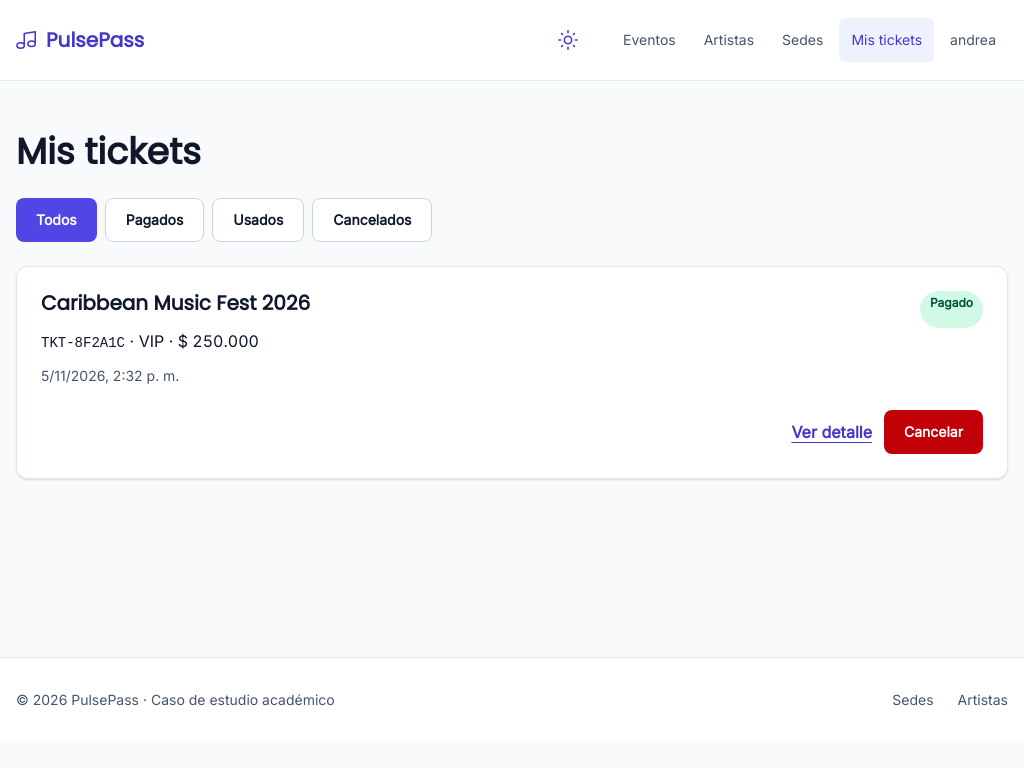
Test: TEST-FE-TKT-005 lista y filtro por estado
The width and height of the screenshot is (1024, 768).
expect the text "TKT-8F2A1C" is shown: met, box x1=41 y1=335 x2=125 y2=351
Click the button "Usados".
click(258, 220)  # box x1=212 y1=198 x2=304 y2=242
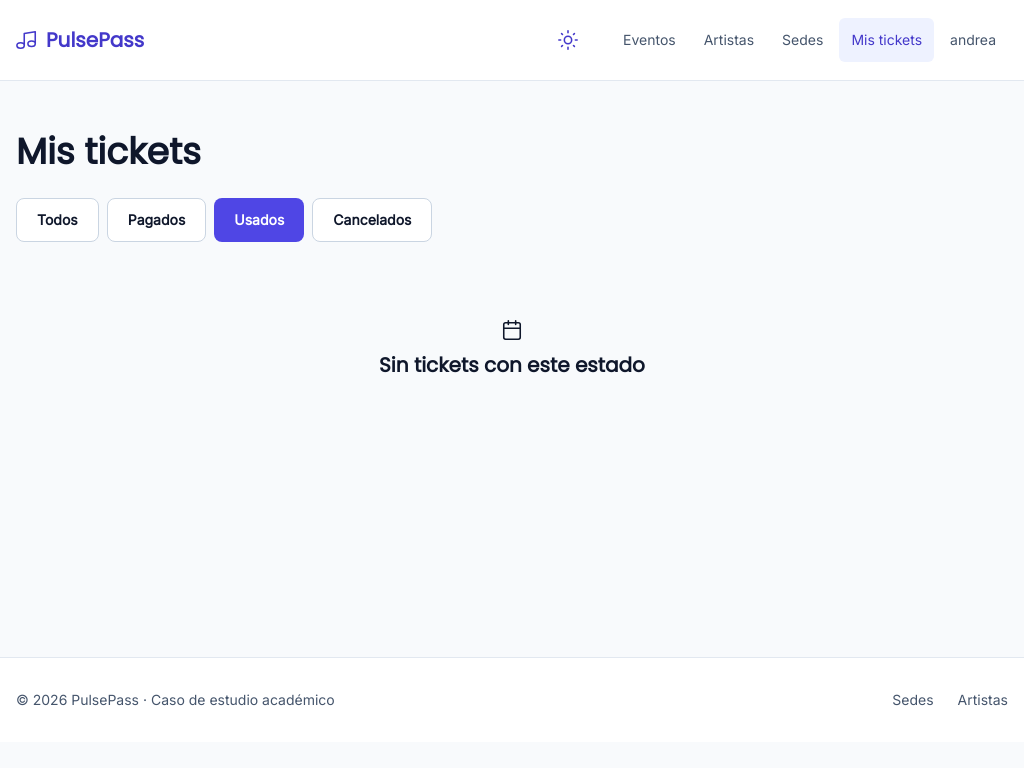
expect the heading "Sin tickets con este estado" is shown: met, box x1=379 y1=352 x2=645 y2=378
